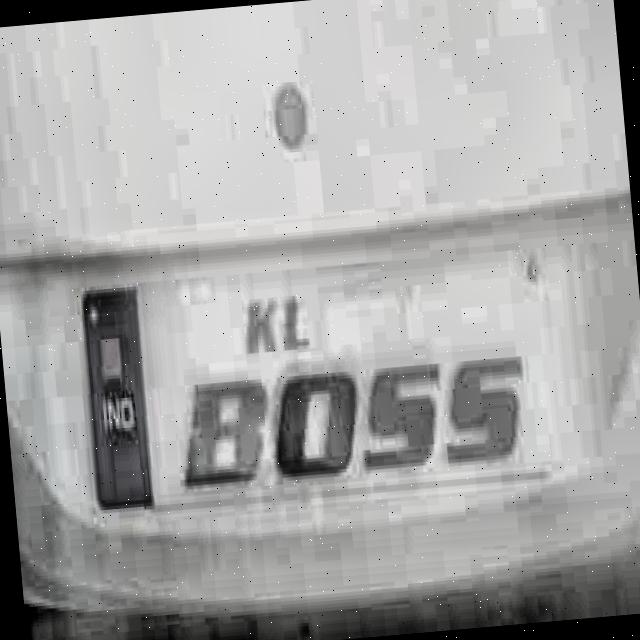license_plate: (81, 255, 554, 534)
